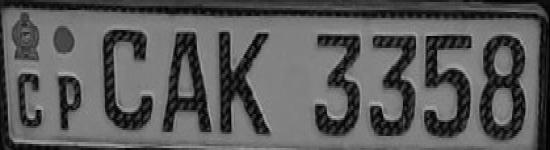3: (367, 25, 421, 146), (312, 25, 365, 145)
5: (424, 26, 476, 142)
8: (476, 24, 531, 149)
A: (158, 24, 214, 140)
C: (101, 22, 156, 138), (13, 66, 49, 134)
K: (216, 22, 276, 143)
P: (53, 64, 85, 139)
